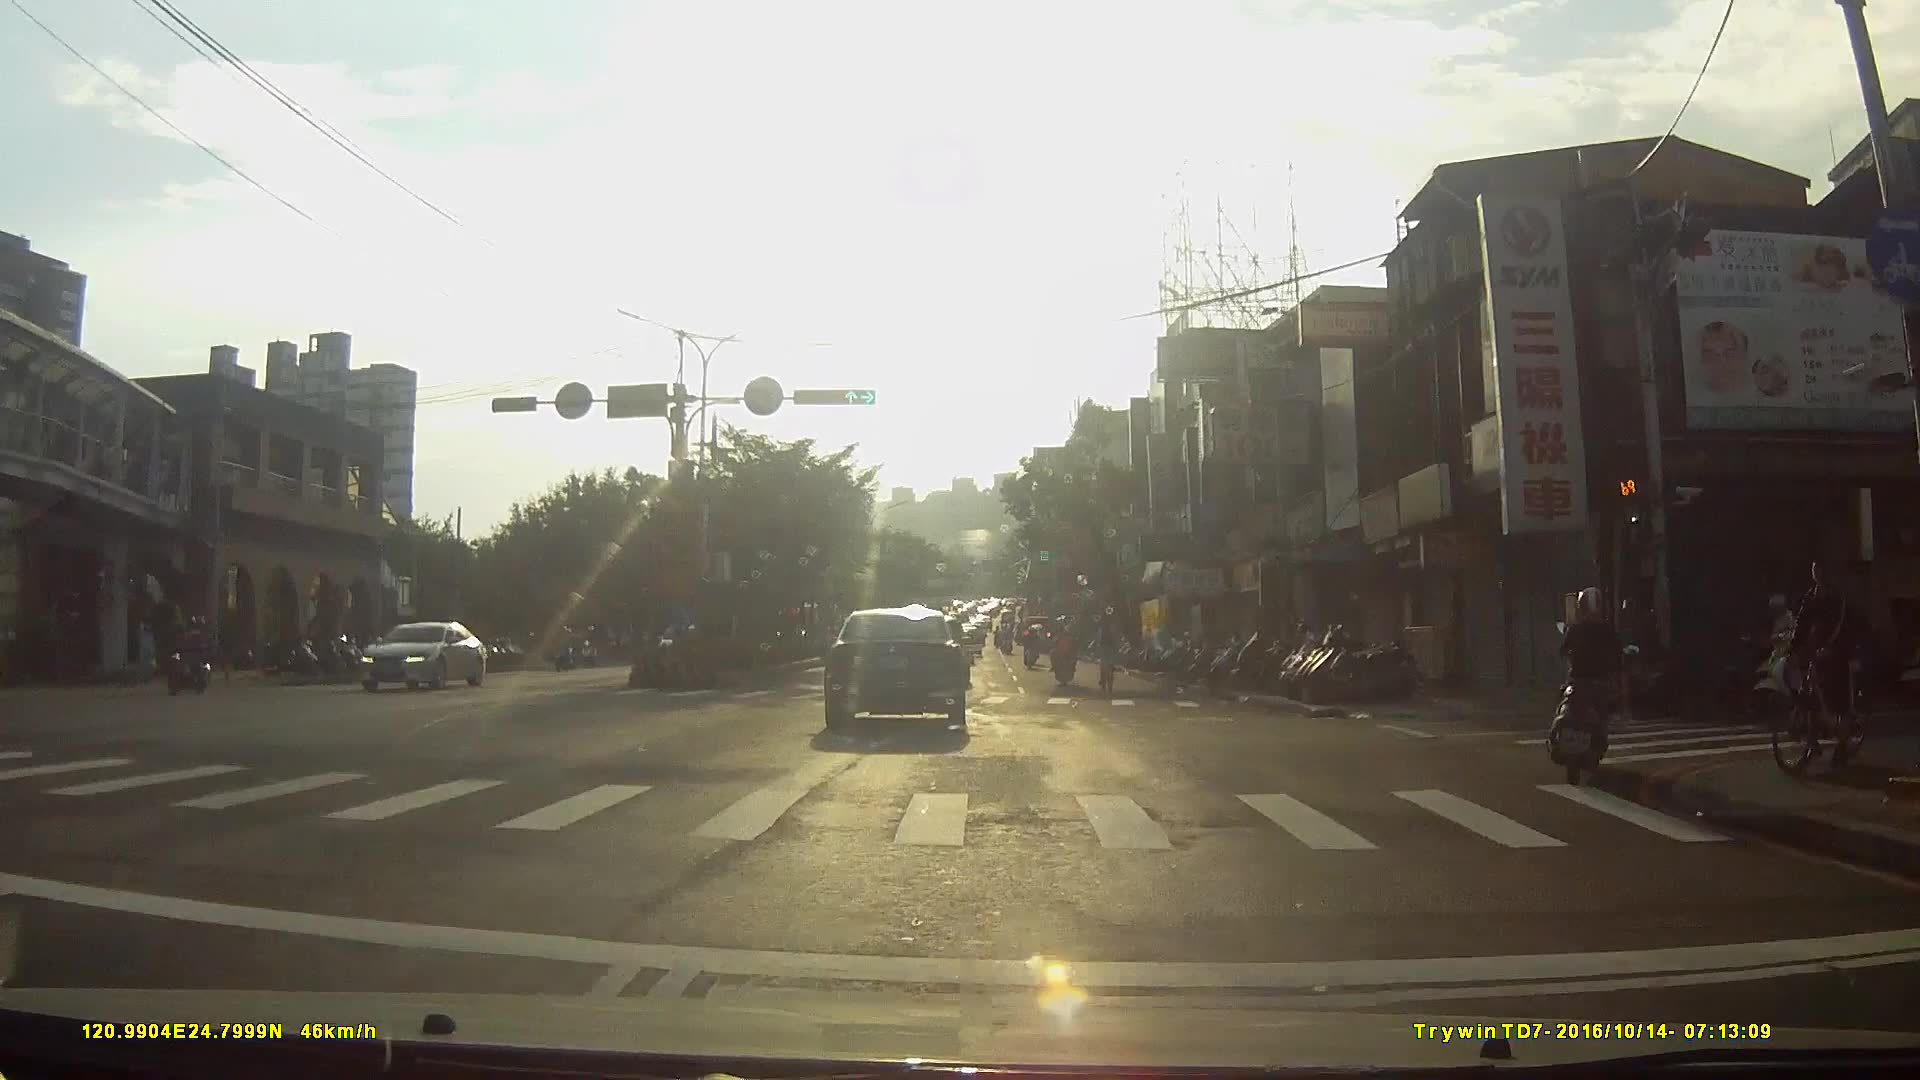rider: (1763, 553, 1879, 778), (1551, 589, 1640, 793), (167, 618, 212, 694), (1051, 625, 1080, 693), (1021, 624, 1044, 673)
vehicle: (823, 608, 983, 748), (357, 620, 484, 698)
